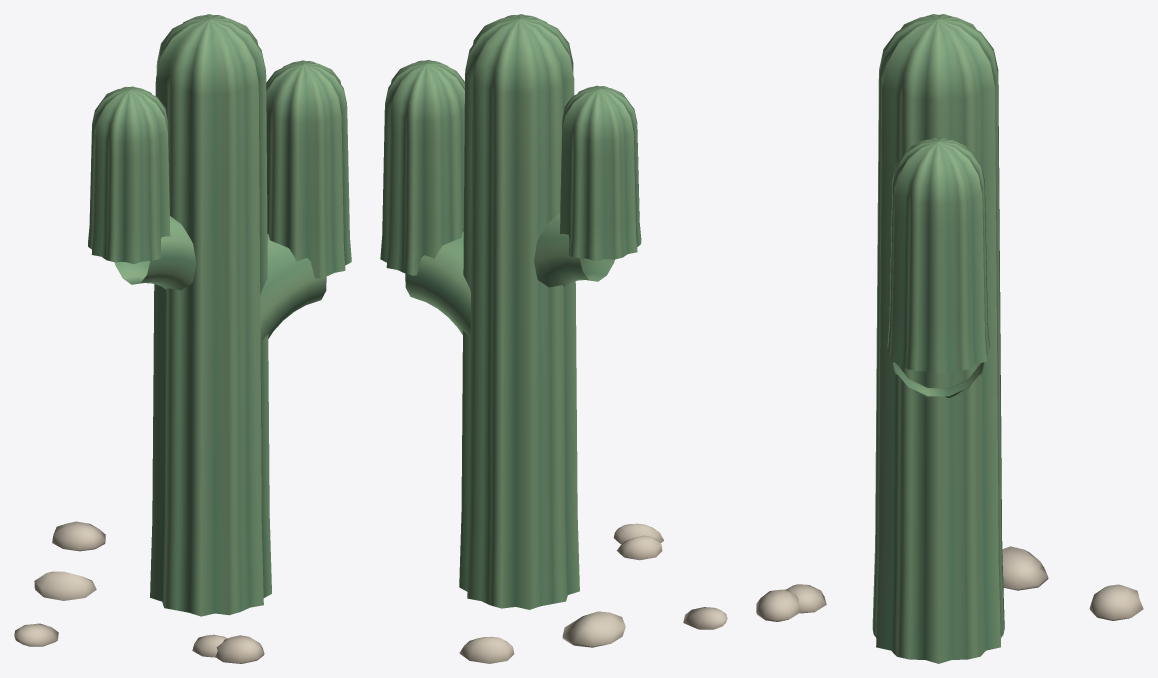
Rendered from cactus_saguaro_a.glb.
3 views of the same model, side by side, from view 1: azimuth 30°, elevation 25°; view 2: azimuth 150°, elevation 25°; view 3: azimuth 270°, elevation 25° (orthographic). The views are drawn at different scales.
Parts seen in each view (by area): view 1: body; view 2: body; view 3: body.
Part boxes in pixels (x1,y1,x2,y2): body: (14, 14, 351, 663); body: (380, 14, 727, 663); body: (756, 14, 1143, 663).
Bounding box in the file's own units: 0.505 × 0.815 × 0.4652.
